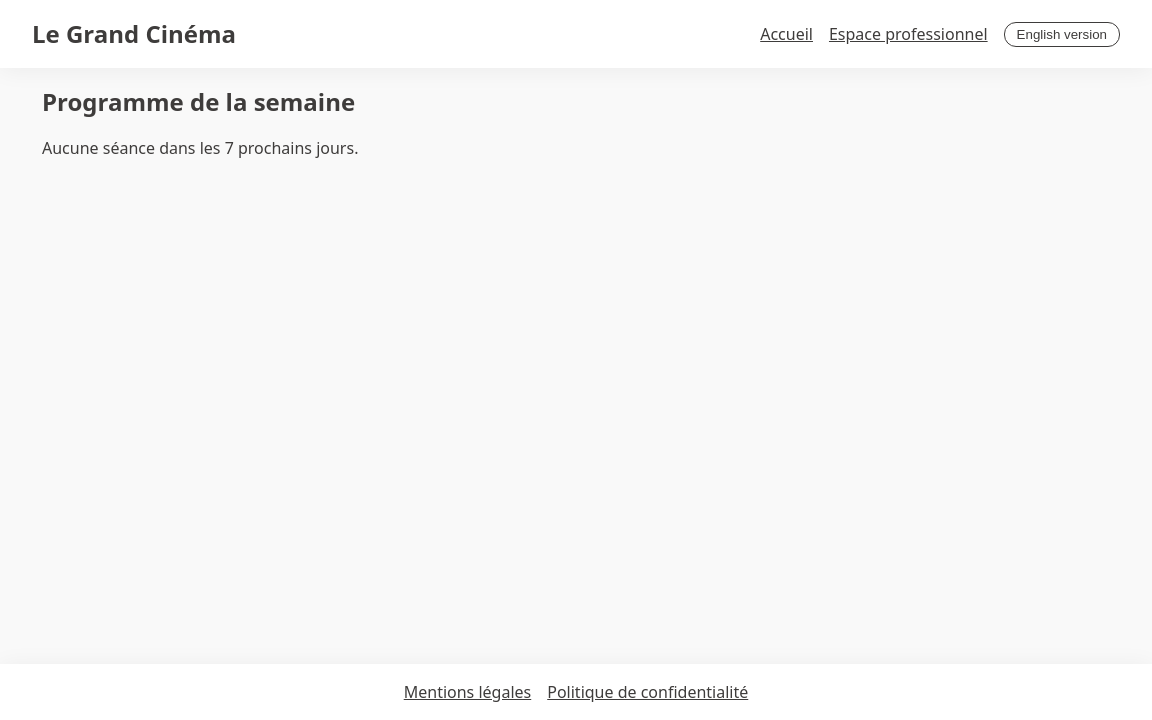
App › mène le personnel à la page du guichet depuis l'en-tête
This screenshot has width=1152, height=720.
Click the link "Espace professionnel". click: click(908, 34)
box: [829, 22, 988, 46]
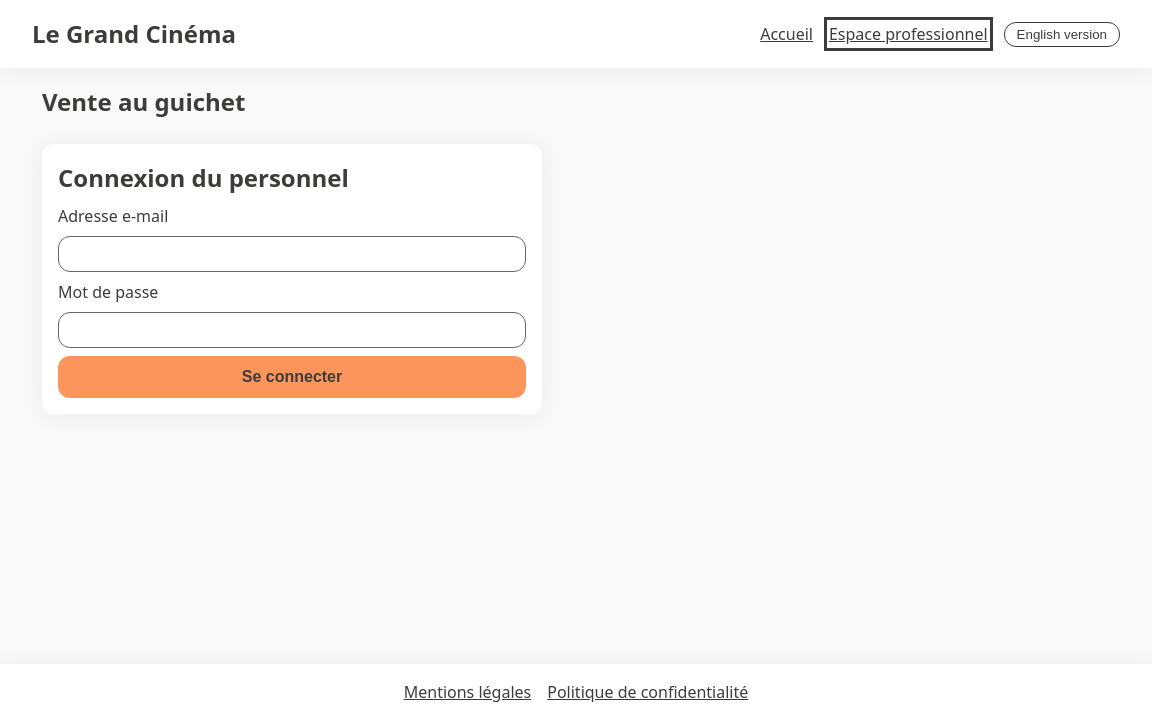
Now the heading "Connexion du personnel" is shown, box [58, 161, 349, 194]
